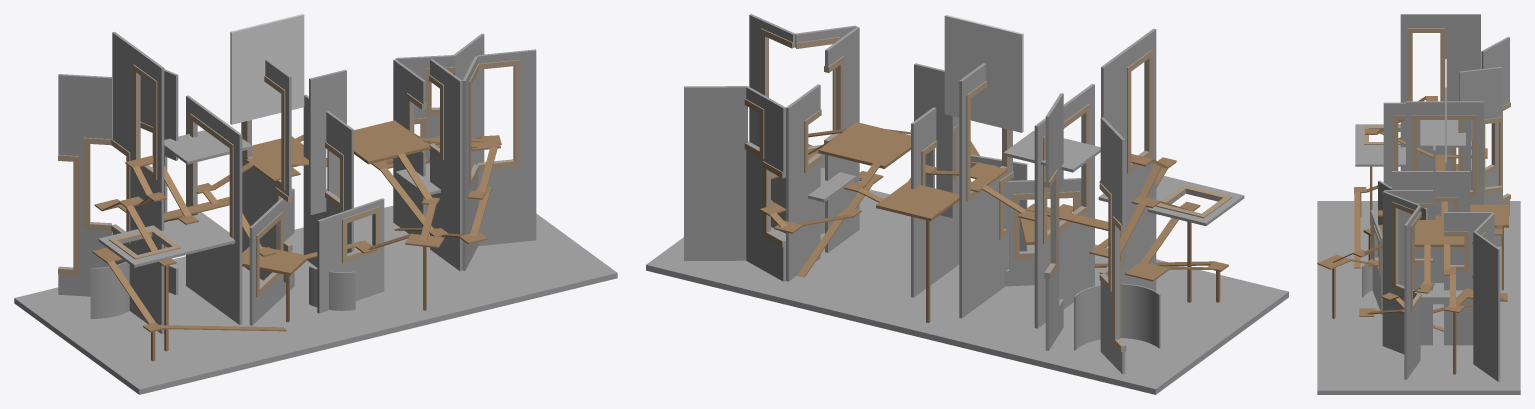
The model's file is 11_ZHA.glb.
The picture shows the model from 3 angles, left to right: view 1: azimuth 30°, elevation 25°; view 2: azimuth 150°, elevation 25°; view 3: azimuth 270°, elevation 25°; orthographic projection. The views are drawn at different scales.
Parts seen in each view (by area): view 1: 01 DIZUO, 06 KAO, 09 YA, 02 JIE, 03 DING, 07 XUAN, 11 ZHA, 10 PIN, 08 CHUI, 05AN, 04 ZHUAN; view 2: 01 DIZUO, 06 KAO, 09 YA, 05AN, 03 DING, 07 XUAN, 11 ZHA, 04 ZHUAN, 02 JIE, 08 CHUI, 10 PIN; view 3: 01 DIZUO, 06 KAO, 03 DING, 02 JIE, 05AN, 09 YA, 11 ZHA, 07 XUAN, 10 PIN, 04 ZHUAN, 08 CHUI.
Part boxes in pixels (x1,y1,x2,y2): 01 DIZUO: [14, 120, 617, 394]; 06 KAO: [58, 31, 235, 333]; 09 YA: [230, 14, 304, 285]; 02 JIE: [462, 49, 536, 270]; 03 DING: [393, 59, 462, 270]; 07 XUAN: [164, 95, 252, 324]; 11 ZHA: [303, 69, 353, 267]; 10 PIN: [309, 198, 384, 313]; 08 CHUI: [249, 188, 294, 325]; 05AN: [453, 33, 484, 168]; 04 ZHUAN: [395, 55, 455, 215]; 01 DIZUO: [646, 122, 1288, 394]; 06 KAO: [1044, 28, 1244, 374]; 09 YA: [944, 15, 1023, 318]; 05AN: [684, 86, 747, 260]; 03 DING: [785, 27, 859, 281]; 07 XUAN: [1003, 84, 1100, 328]; 11 ZHA: [911, 63, 959, 297]; 04 ZHUAN: [744, 86, 785, 281]; 02 JIE: [749, 14, 856, 233]; 08 CHUI: [1003, 178, 1081, 286]; 10 PIN: [970, 154, 1027, 251]; 01 DIZUO: [1317, 96, 1520, 394]; 06 KAO: [1355, 14, 1510, 246]; 03 DING: [1384, 190, 1492, 345]; 02 JIE: [1382, 191, 1421, 379]; 05AN: [1473, 232, 1500, 381]; 09 YA: [1406, 59, 1483, 219]; 11 ZHA: [1392, 135, 1469, 304]; 07 XUAN: [1383, 102, 1471, 190]; 10 PIN: [1362, 210, 1382, 310]; 04 ZHUAN: [1472, 213, 1494, 278]; 08 CHUI: [1378, 180, 1427, 256].
Size of the model in its own units: 9.23 by 5 by 4.18.
